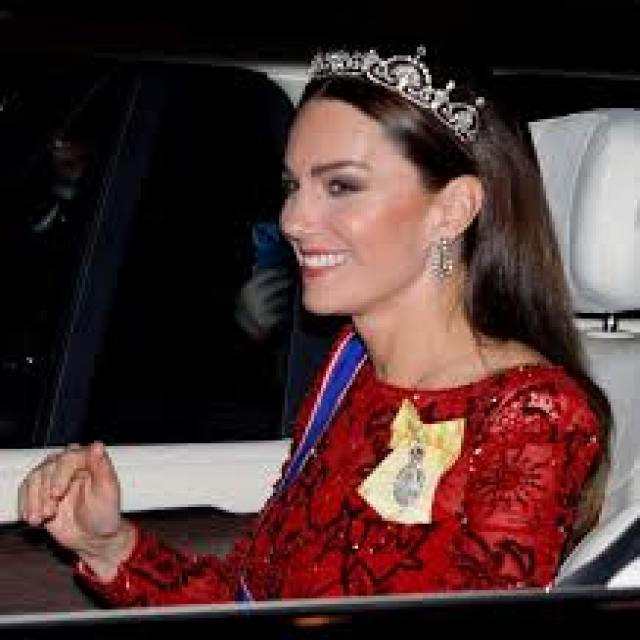Earring: (419, 222, 472, 290)
